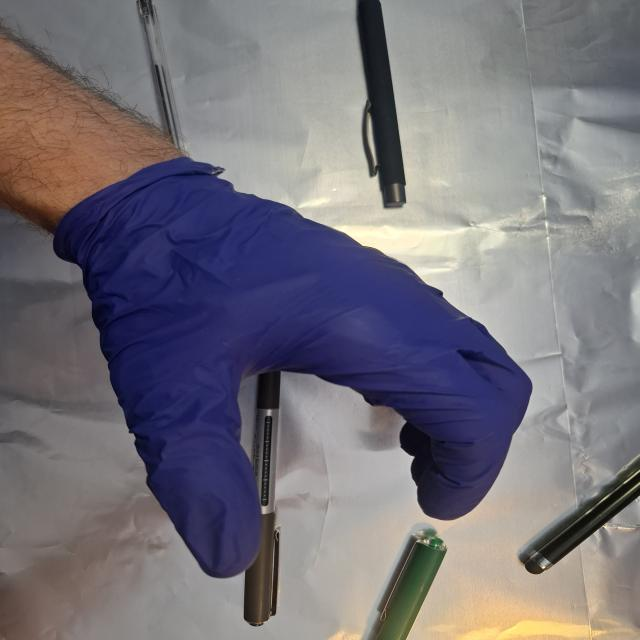glove_on: (75, 156, 537, 582)
